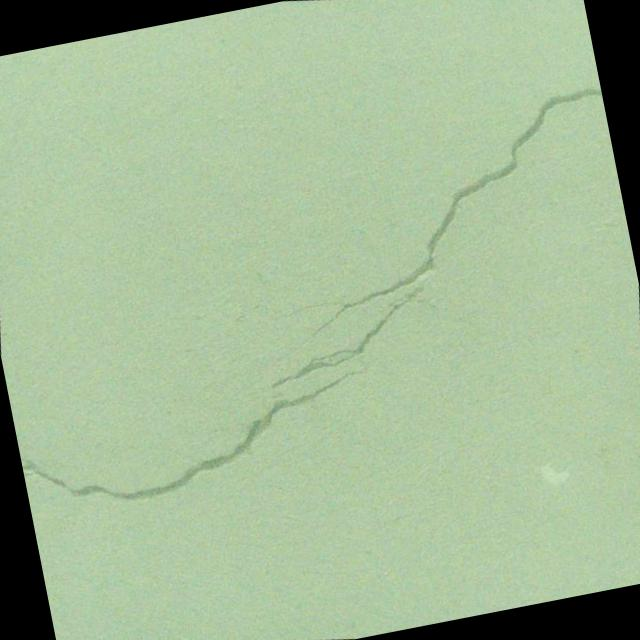crack: (0, 205, 486, 569), (187, 21, 640, 410)
